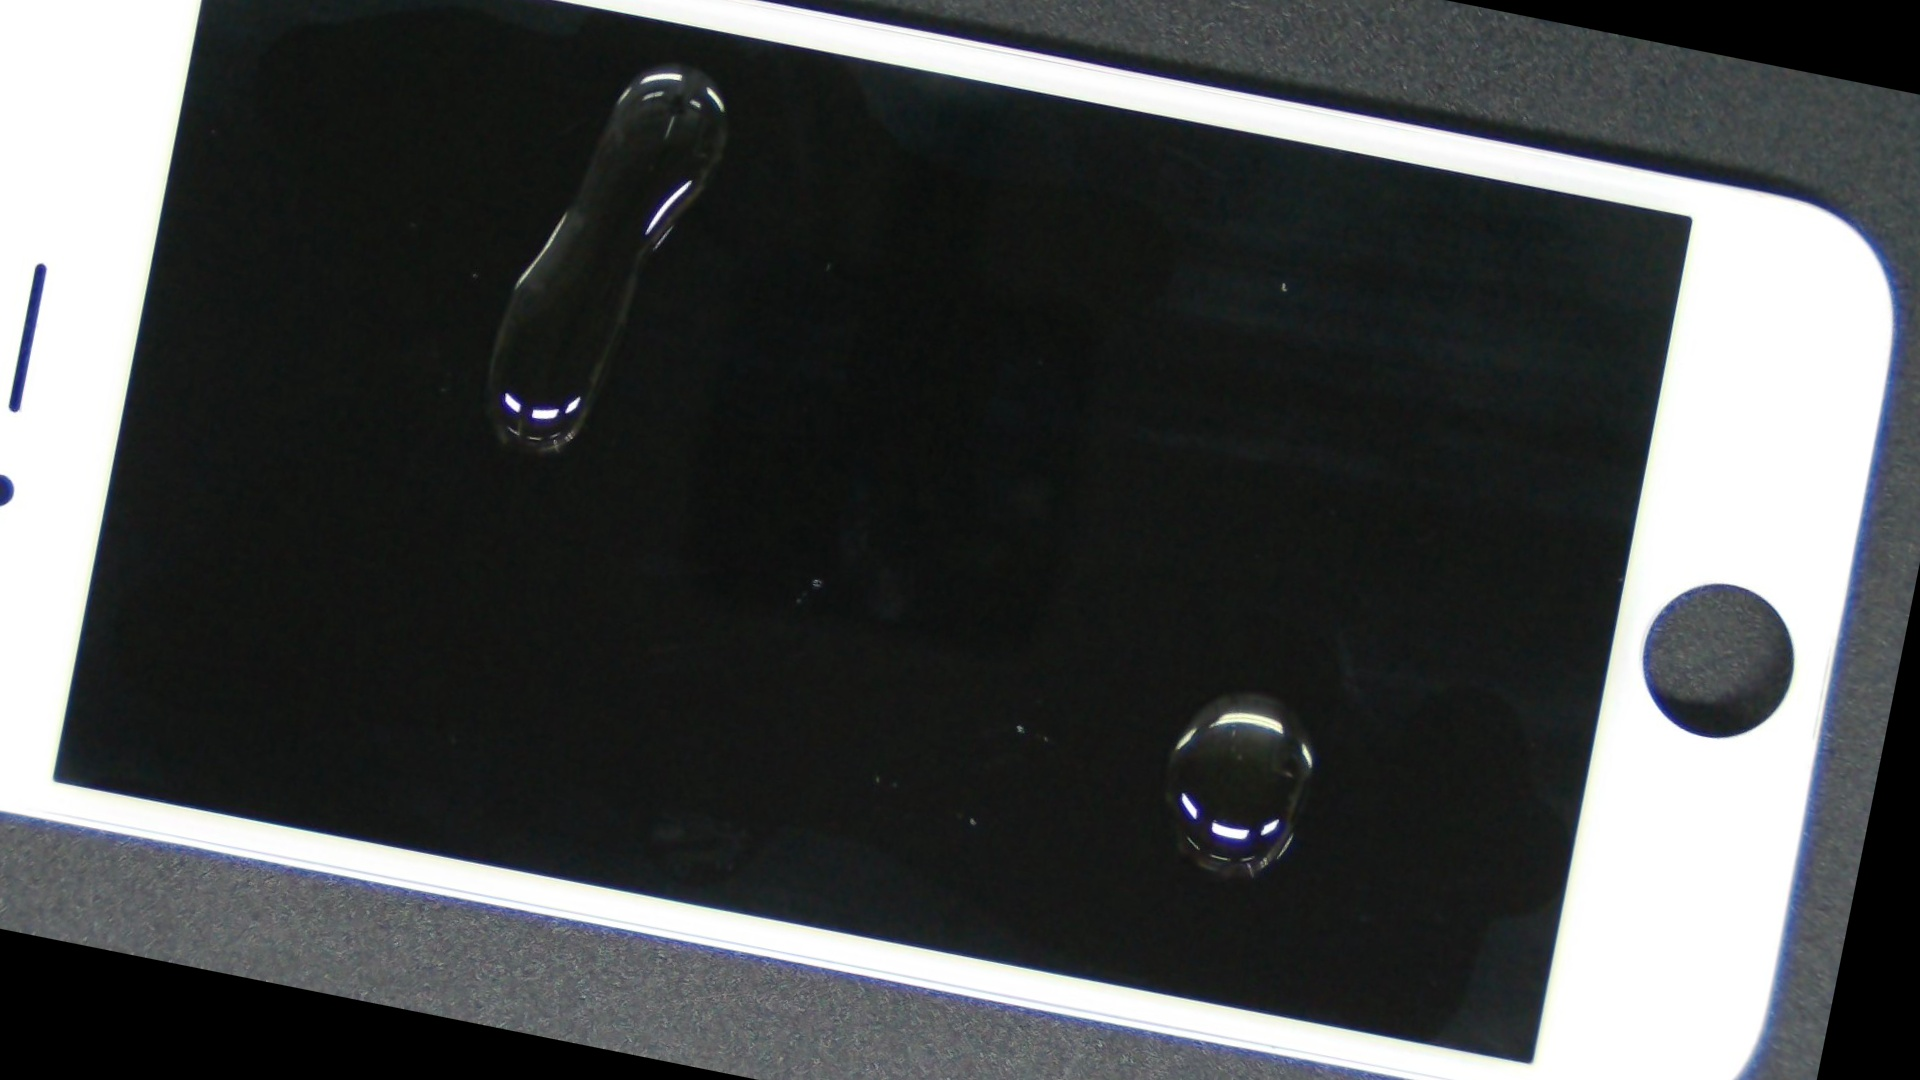oil: (468, 197, 1920, 1080), (278, 0, 1087, 244)
